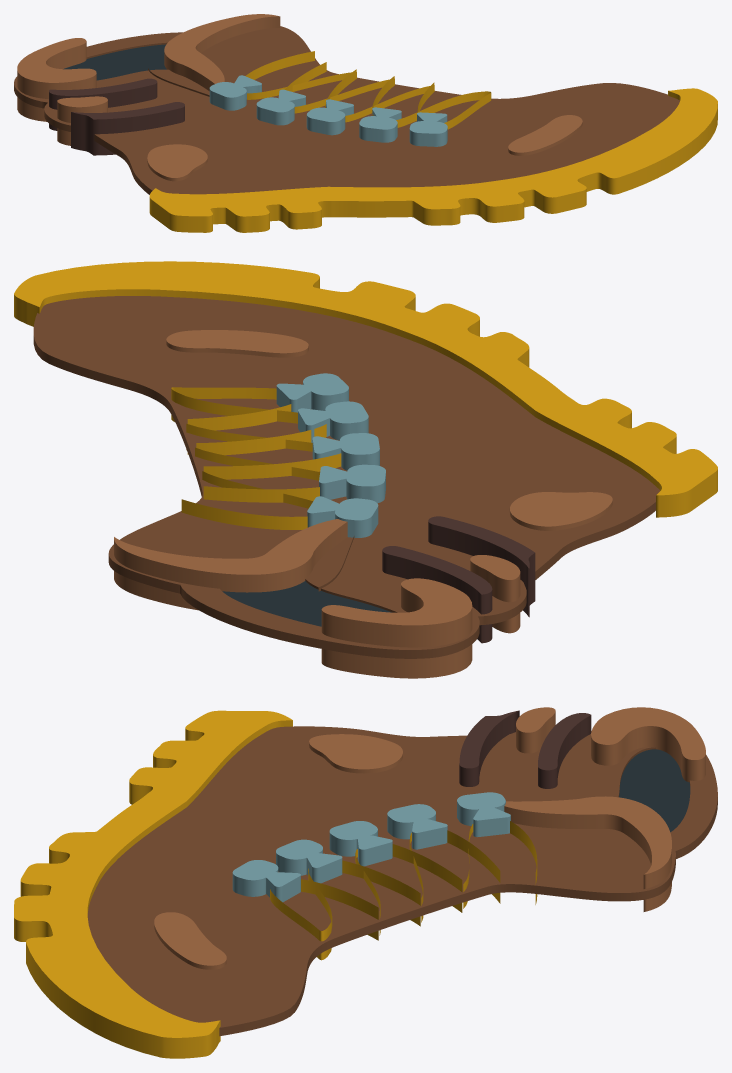
File: emoji_u1f97e.glb
3 renders of one model, top to bottom at view 1: azimuth 30°, elevation 25°; view 2: azimuth 150°, elevation 25°; view 3: azimuth 270°, elevation 25°, orthographic. The views are drawn at different scales.
Visible parts, largest first — view 1: emoji_u1f97e; view 2: emoji_u1f97e; view 3: emoji_u1f97e.
Part boxes in pixels (<box>): emoji_u1f97e: <box>14,14,717,232</box>; emoji_u1f97e: <box>14,261,717,678</box>; emoji_u1f97e: <box>14,707,717,1058</box>.
Bounding box in the file's own units: 0.0337 × 0.0024 × 0.0307.
